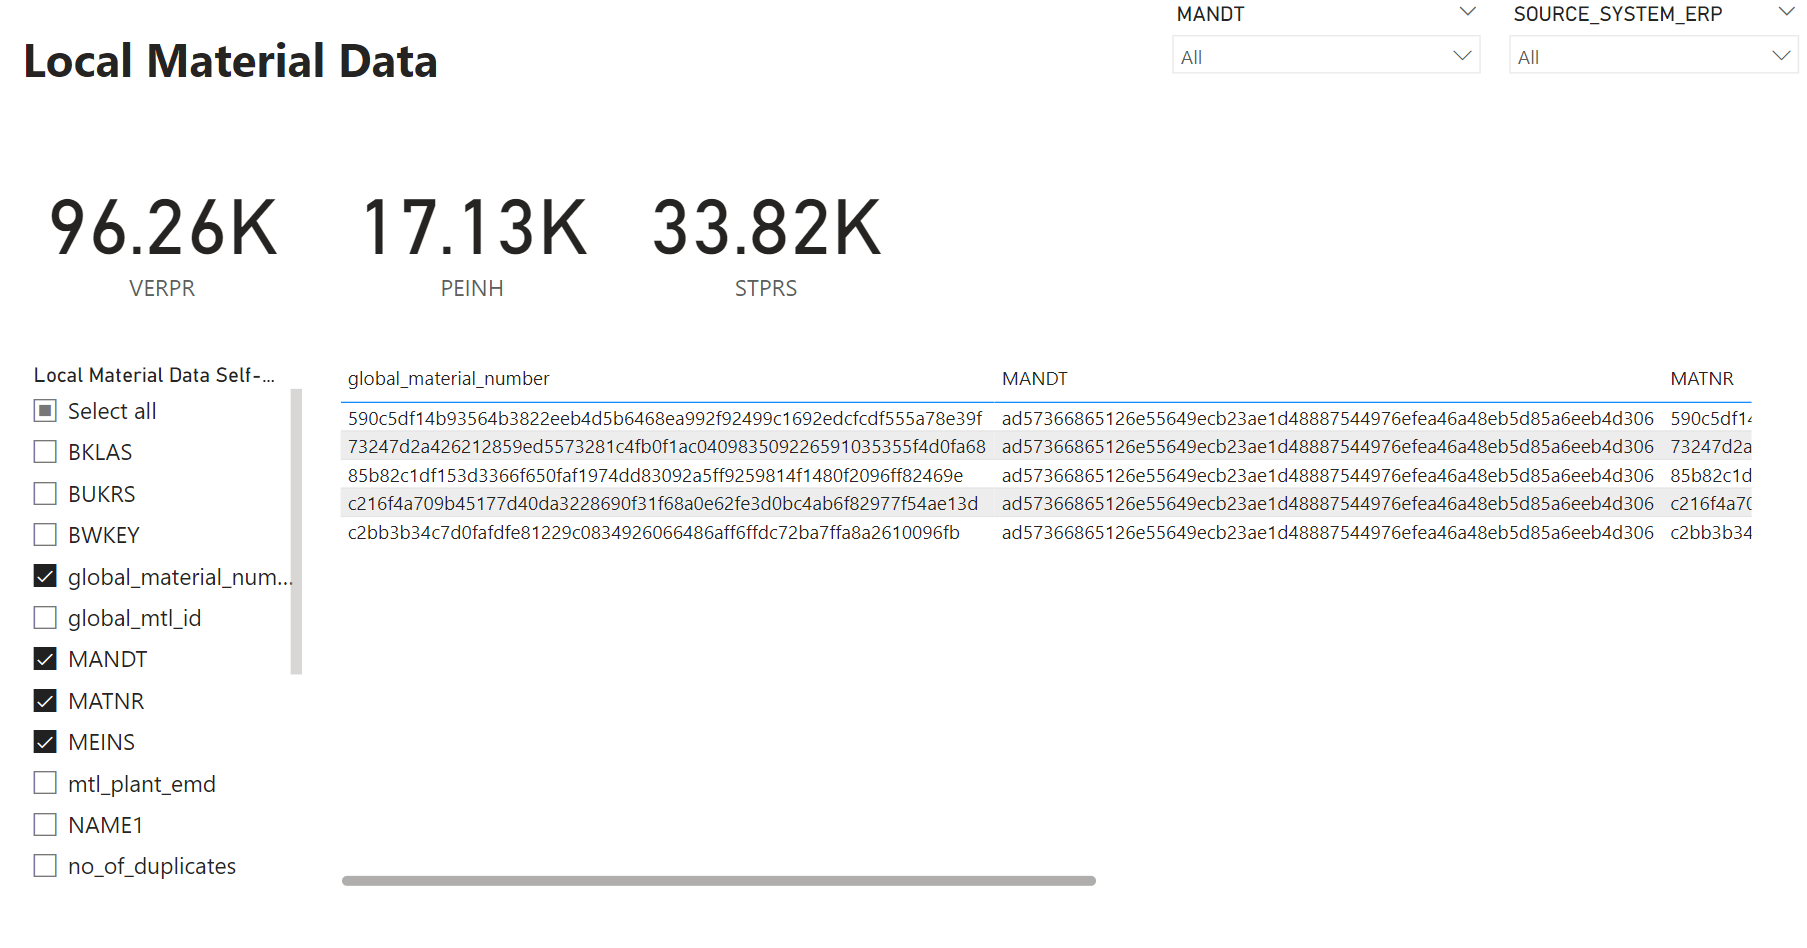

The page's visual inventory and layout, read from the dashboard file:
{"tool":"powerbi","page":{"name":"Local Material Data","canvas":[1280,720],"ordinal":0},"visuals":[{"type":"slicer","fields":{"Values":["process_order_s1.SOURCE_SYSTEM_ERP"]},"box":[1056.6,0,223.4,65.1],"z":1000},{"type":"slicer","fields":{"Values":["process_order_s1.MANDT"]},"box":[820.7,0,236,65.1],"z":2000},{"type":"textbox","box":[20.3,17.5,777.9,94.5],"z":2001},{"type":"tableEx","fields":{"Values":["local_material_s1.global_material_number","local_material_s1.MANDT","local_material_s1.MATNR","local_material_s1.MEINS"]},"box":[242.3,252.8,998.5,377.4],"z":2002},{"type":"card","fields":{"Values":["Sum(local_material_s1.VERPR)"]},"box":[20.3,112,205.9,107.8],"z":2003},{"type":"card","fields":{"Values":["Sum(local_material_s1.PEINH)"]},"box":[237.4,112,205.9,107.8],"z":2004},{"type":"card","fields":{"Values":["Sum(local_material_s1.STPRS)"]},"box":[443.2,112,205.9,107.8],"z":2005},{"type":"slicer","fields":{"Values":["Local Material Data Self-Service.Local Material Data Self-Service"]},"box":[20,253,206,377],"z":2006}]}

Visuals, with their boxes on the page's 1280x720 design canvas (x1, y1, x2, y2). These are canvas units, not pixel positions in the 1807x948 screenshot, which may show the page scaled, cropped or inside an application window:
slicer - process_order_s1.SOURCE_SYSTEM_ERP: x1=1057, y1=0, x2=1280, y2=65
slicer - process_order_s1.MANDT: x1=821, y1=0, x2=1057, y2=65
textbox: x1=20, y1=18, x2=798, y2=112
tableEx - local_material_s1.global_material_number x local_material_s1.MANDT: x1=242, y1=253, x2=1241, y2=630
card - Sum(local_material_s1.VERPR): x1=20, y1=112, x2=226, y2=220
card - Sum(local_material_s1.PEINH): x1=237, y1=112, x2=443, y2=220
card - Sum(local_material_s1.STPRS): x1=443, y1=112, x2=649, y2=220
slicer - Local Material Data Self-Service.Local Material Data Self-Service: x1=20, y1=253, x2=226, y2=630
